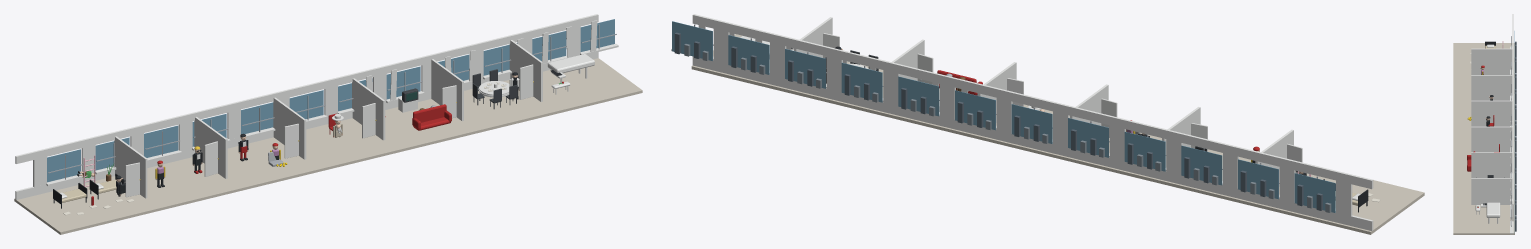
3 renders of one model, left to right at view 1: azimuth 30°, elevation 25°; view 2: azimuth 150°, elevation 25°; view 3: azimuth 270°, elevation 25°, orthographic. The views are drawn at different scales.
Parts seen in each view (by area): view 1: continuous polished stage floor, back wall top course, back wall low course, partition fin 3, partition fin 2, partition fin 4, partition fin 0, partition fin 1, partition fin 5, window pane 2, window pane 0, window pane 4 (+22 smaller); view 2: back wall top course, back wall low course, continuous polished stage floor, window pane 7, window pane 2, window pane 10, window pane 5, window pane 8, window pane 0, window pane 3, window pane 1, window pane 4 (+21 smaller); view 3: continuous polished stage floor, partition fin 3, partition fin 0, partition fin 5, partition fin 2, partition fin 4, partition fin 1, back wall top course, piano body, window sill 11, left iron bed rail.
Boxes of the visible parts, x1,y1,x2,y2 form: continuous polished stage floor: [14, 58, 642, 234]; back wall top course: [15, 14, 598, 163]; back wall low course: [15, 52, 598, 199]; partition fin 3: [352, 78, 385, 140]; partition fin 2: [273, 97, 306, 159]; partition fin 4: [431, 59, 463, 121]; partition fin 0: [114, 136, 147, 198]; partition fin 1: [194, 117, 227, 178]; partition fin 5: [509, 40, 542, 101]; window pane 2: [144, 125, 178, 157]; window pane 0: [47, 149, 80, 182]; window pane 4: [241, 102, 273, 134]; back wall top course: [692, 14, 1373, 189]; back wall low course: [692, 56, 1373, 230]; continuous polished stage floor: [691, 34, 1424, 234]; window pane 7: [898, 76, 939, 116]; window pane 2: [1181, 145, 1222, 185]; window pane 10: [728, 35, 769, 74]; window pane 5: [1011, 104, 1052, 143]; window pane 8: [841, 62, 882, 102]; window pane 0: [1294, 173, 1335, 212]; window pane 3: [1124, 131, 1165, 171]; window pane 1: [1238, 159, 1278, 199]; window pane 4: [1068, 118, 1108, 157]; continuous polished stage floor: [1453, 43, 1514, 234]; partition fin 3: [1471, 126, 1512, 152]; partition fin 0: [1471, 48, 1512, 74]; partition fin 5: [1471, 178, 1512, 204]; partition fin 2: [1471, 100, 1512, 126]; partition fin 4: [1471, 152, 1512, 177]; partition fin 1: [1471, 75, 1512, 100]; back wall top course: [1512, 14, 1513, 209]; piano body: [1486, 202, 1500, 217]; window sill 11: [1510, 221, 1513, 234]; left iron bed rail: [1485, 41, 1495, 45].
Bounding box in the file's own units: 49.52 × 3.96 × 6.78.
